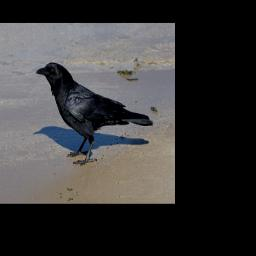Crow: (35, 53, 156, 170)
